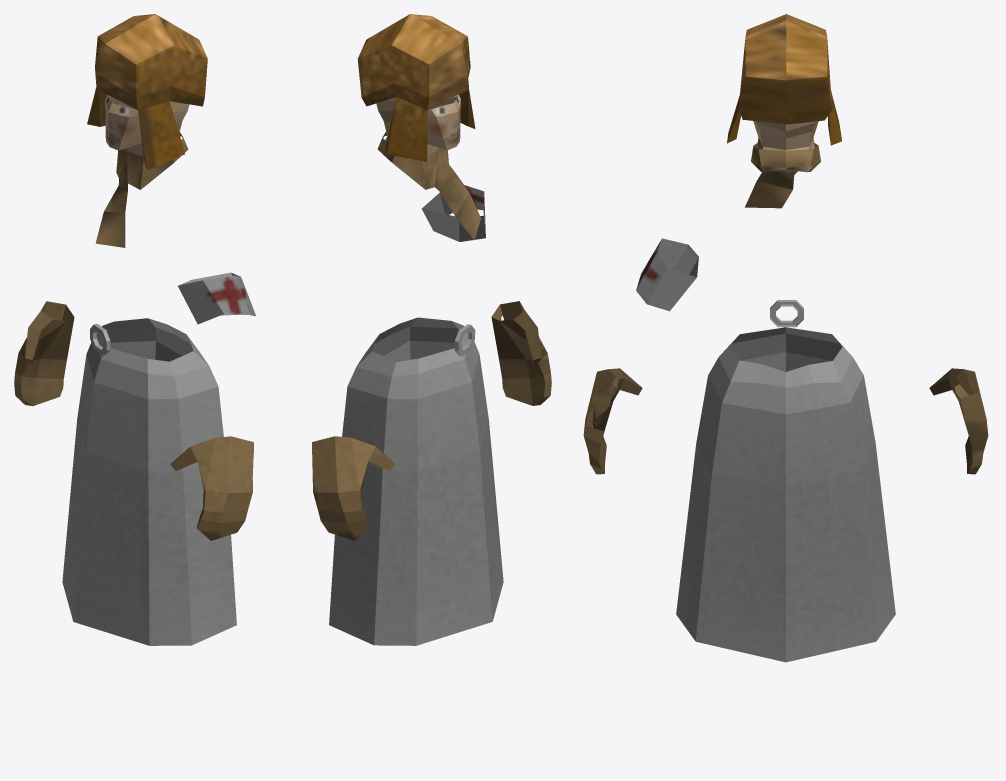
The model's file is medik_char.fbx.
3 renders of one model, left to right at view 1: azimuth 30°, elevation 25°; view 2: azimuth 150°, elevation 25°; view 3: azimuth 270°, elevation 25°, orthographic. The views are drawn at different scales.
Parts seen in each view (by area): view 1: CH-M-v03; view 2: CH-M-v03; view 3: CH-M-v03.
Part boxes in pixels (bbox=[...]): CH-M-v03: bbox=[14, 14, 255, 645]; CH-M-v03: bbox=[312, 14, 551, 645]; CH-M-v03: bbox=[583, 14, 988, 662].
Size of the model in its own units: 76.49 by 387 by 197.
